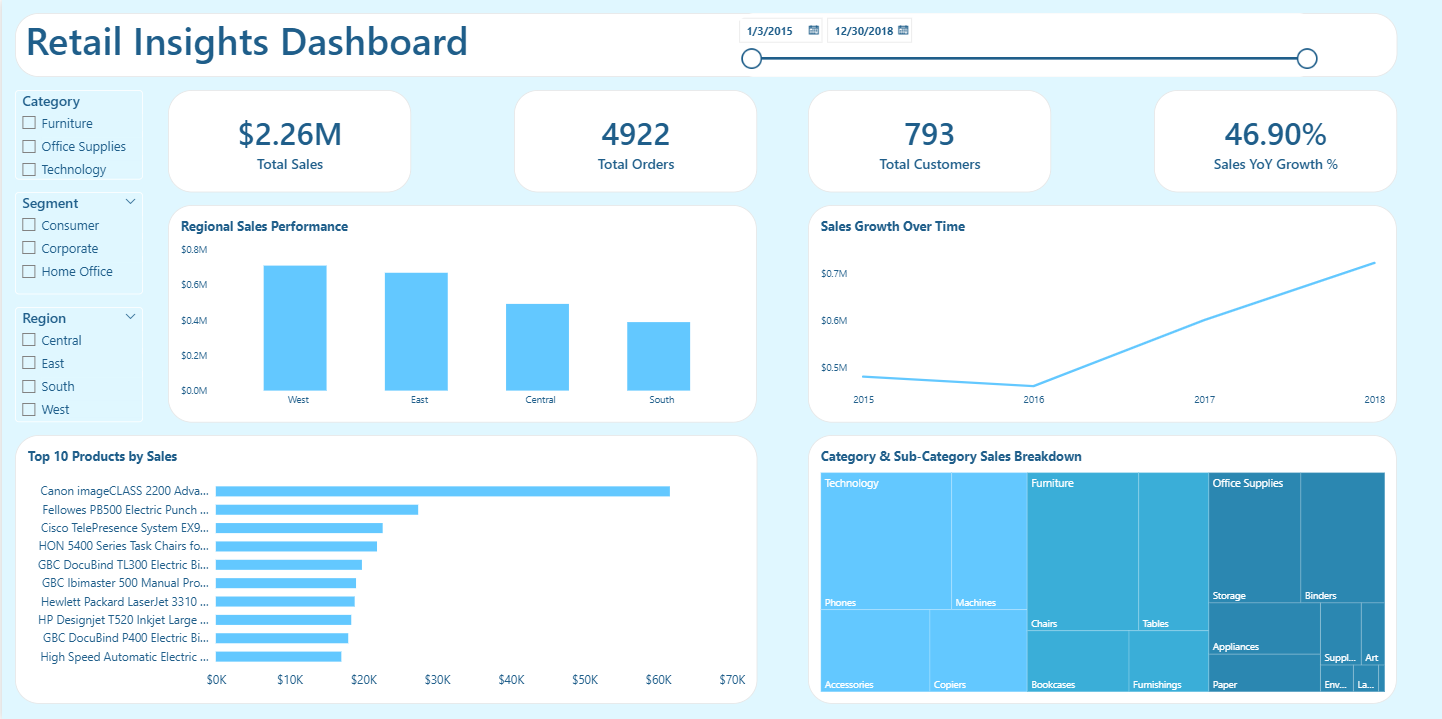

The page's visual inventory and layout, read from the dashboard file:
{"tool":"powerbi","page":{"name":"Page 1","canvas":[1800,900],"ordinal":0},"visuals":[{"type":"treemap","title":"Category & Sub-Category Sales Breakdown","fields":{"Group":["train.Category"],"Values":["_Measures.Total Sales"],"Details":["train.Sub-Category"]},"box":[1008,544,736,336],"z":0},{"type":"clusteredColumnChart","title":"Regional Sales Performance","fields":{"Category":["train.Region"],"Y":["_Measures.Total Sales"]},"box":[208,256,736,272],"z":1000},{"type":"lineChart","title":"Sales Growth Over Time","fields":{"Category":["Calendar.Date.Variation.Date Hierarchy.Year","Calendar.Date.Variation.Date Hierarchy.Quarter","Calendar.Date.Variation.Date Hierarchy.Month","Calendar.Date.Variation.Date Hierarchy.Day"],"Y":["_Measures.Total Sales"]},"box":[1008,256,736,272],"z":2000},{"type":"clusteredBarChart","title":"Top 10 Products by Sales","fields":{"Category":["train.Product Name"],"Y":["_Measures.Total Sales"]},"box":[16,544,928,336],"z":3000},{"type":"card","fields":{"Values":["_Measures.Total Sales"]},"box":[208,112,304,128],"z":4000},{"type":"card","fields":{"Values":["_Measures.Total Orders"]},"box":[640,112,304,128],"z":5000},{"type":"card","fields":{"Values":["_Measures.Total Customers"]},"box":[1008,112,304,128],"z":6000},{"type":"card","fields":{"Values":["_Measures.Sales YoY Growth %"]},"box":[1440,112,304,128],"z":7000},{"type":"slicer","fields":{"Values":["train.Category"]},"box":[16,112,160,112],"z":8000},{"type":"slicer","fields":{"Values":["train.Segment"]},"box":[16,240,160,128],"z":9000},{"type":"slicer","fields":{"Values":["train.Region"]},"box":[16,384,160,144],"z":10000},{"type":"textbox","box":[16,16,1728,80],"z":11000},{"type":"slicer","fields":{"Values":["Calendar.Date"]},"box":[912,16,736,80],"z":12000}]}

Visuals, with their boxes in screenshot pixels (x1, y1, x2, y2), scaled from the page's 1800x900 canvas onto the 1442x719 screenshot:
"Category & Sub-Category Sales Breakdown" treemap: (left=808, top=435, right=1397, bottom=703)
"Regional Sales Performance" clusteredColumnChart: (left=167, top=205, right=756, bottom=422)
"Sales Growth Over Time" lineChart: (left=808, top=205, right=1397, bottom=422)
"Top 10 Products by Sales" clusteredBarChart: (left=13, top=435, right=756, bottom=703)
card - _Measures.Total Sales: (left=167, top=89, right=410, bottom=192)
card - _Measures.Total Orders: (left=513, top=89, right=756, bottom=192)
card - _Measures.Total Customers: (left=808, top=89, right=1051, bottom=192)
card - _Measures.Sales YoY Growth %: (left=1154, top=89, right=1397, bottom=192)
slicer - train.Category: (left=13, top=89, right=141, bottom=179)
slicer - train.Segment: (left=13, top=192, right=141, bottom=294)
slicer - train.Region: (left=13, top=307, right=141, bottom=422)
textbox: (left=13, top=13, right=1397, bottom=77)
slicer - Calendar.Date: (left=731, top=13, right=1320, bottom=77)
